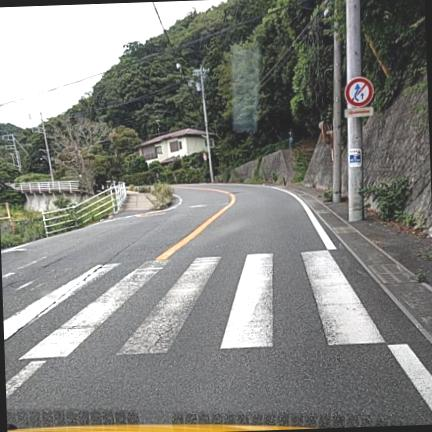Road: (1, 185, 431, 427)
